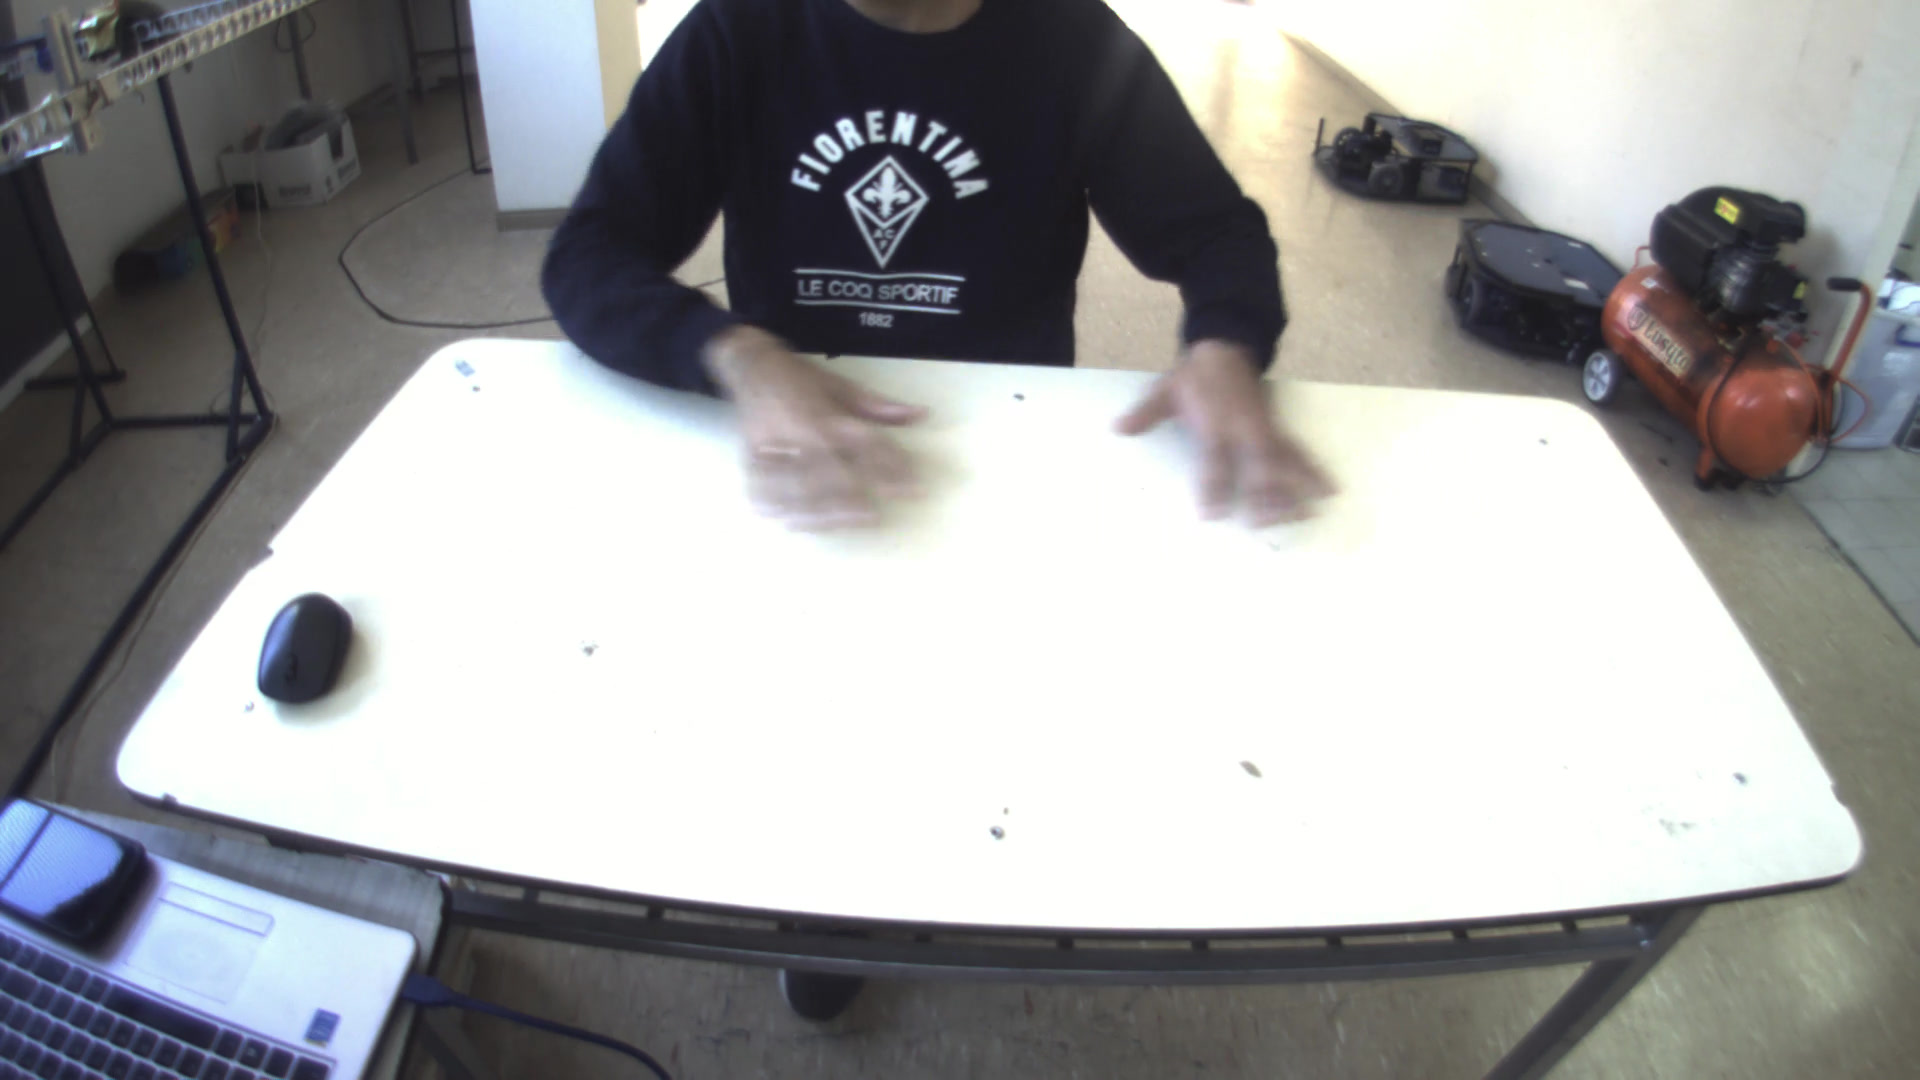hand: (687, 310, 942, 545), (1112, 327, 1337, 539)
